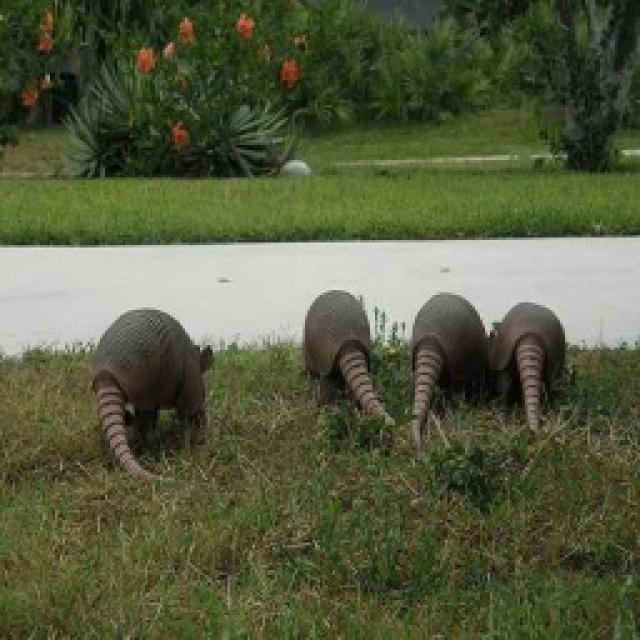not_pig: (88, 305, 212, 483), (405, 290, 487, 452), (300, 288, 392, 428), (485, 297, 565, 435)
